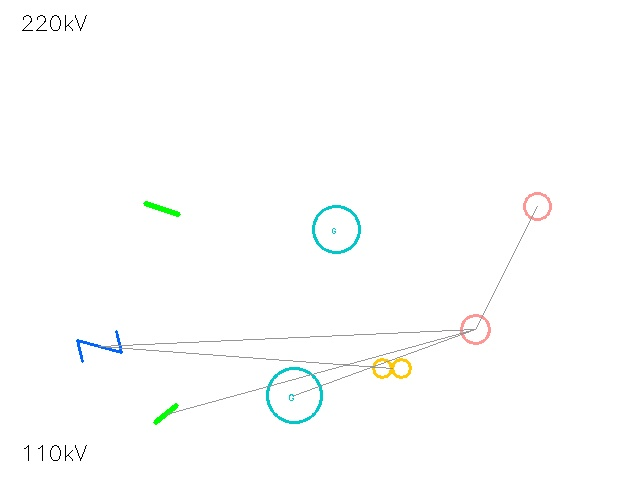busbar: (141, 188, 183, 230), (149, 397, 183, 431)
circuit_breaker: (77, 324, 121, 368)
current_transformer: (447, 301, 503, 357)
feeder_terminal: (510, 179, 564, 233)
generator: (267, 368, 321, 422), (313, 206, 359, 252)
transformer_2w: (368, 344, 416, 392)
